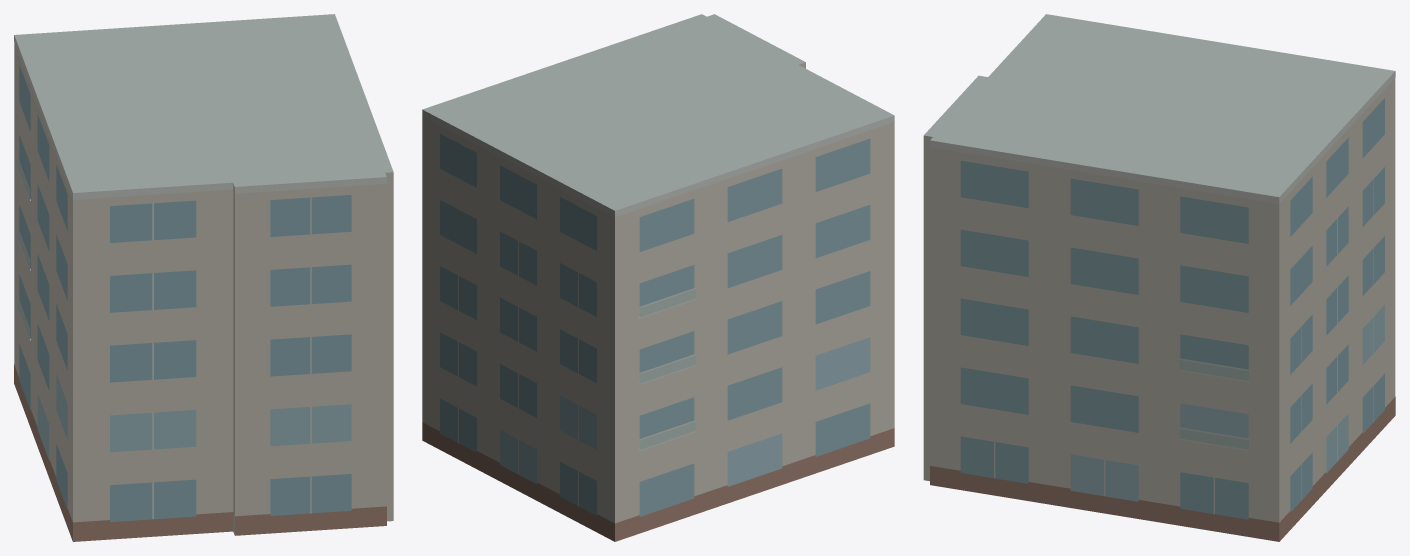
Rendered from survey-upis-32748347.glb.
3 renders of one model, left to right at view 1: azimuth 30°, elevation 25°; view 2: azimuth 150°, elevation 25°; view 3: azimuth 270°, elevation 25°, orthographic. The views are drawn at different scales.
Visible parts, largest first — view 1: survey-upis-32748347.tmp; view 2: survey-upis-32748347.tmp; view 3: survey-upis-32748347.tmp.
Part boxes in pixels (x1,y1,x2,y2): survey-upis-32748347.tmp: [14, 14, 393, 541]; survey-upis-32748347.tmp: [422, 14, 894, 541]; survey-upis-32748347.tmp: [923, 14, 1395, 541].
Size of the model in its own units: 14.38 by 12.61 by 15.66.
